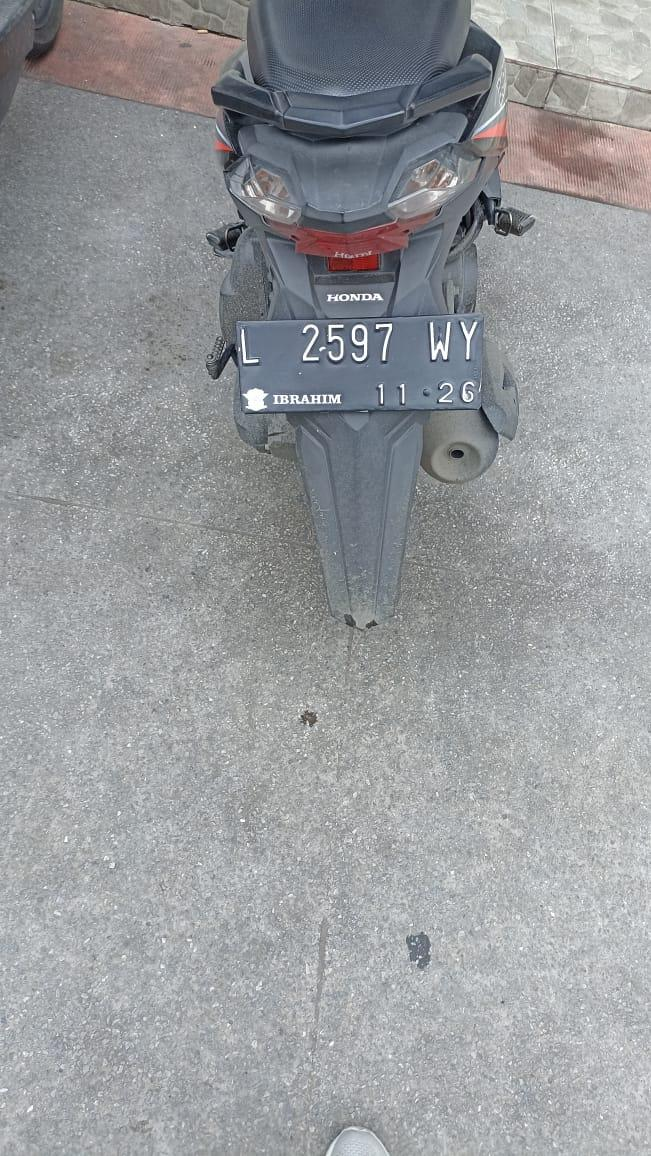plat: (235, 314, 488, 413)
